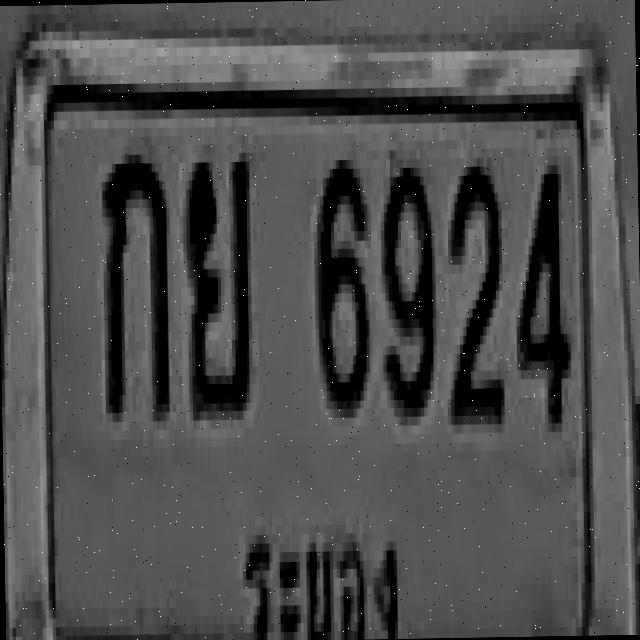10GorGai: (101, 144, 169, 422)
2: (446, 158, 504, 424)
4: (515, 160, 570, 428)
43YorYak: (182, 152, 253, 412)
6: (314, 154, 369, 413)
9: (381, 158, 436, 417)
Rayong: (234, 495, 403, 640)
